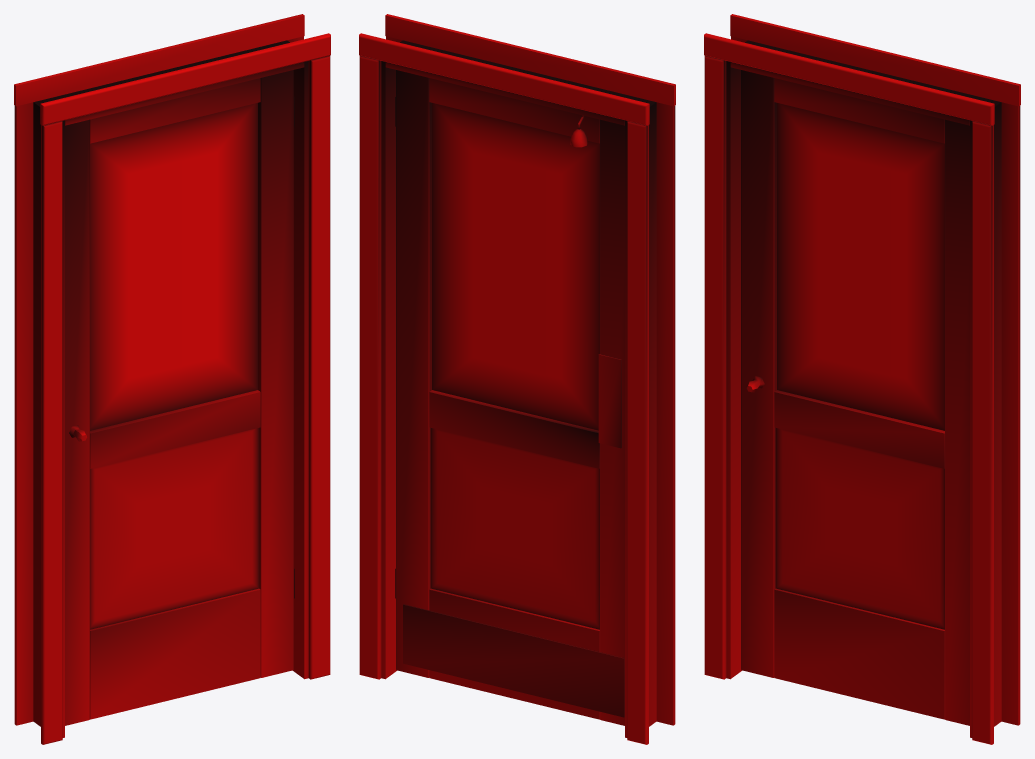
Rendered from CI_Shell_Door_Shop.fbx.
3 renders of one model, left to right at view 1: azimuth 30°, elevation 25°; view 2: azimuth 150°, elevation 25°; view 3: azimuth 330°, elevation 25°, orthographic.
Visible parts, largest first — view 1: CI_Shell_Door_Shop; view 2: CI_Shell_Door_Shop; view 3: CI_Shell_Door_Shop.
Part boxes in pixels (x1,y1,x2,y2): CI_Shell_Door_Shop: (14,14,330,744); CI_Shell_Door_Shop: (359,14,675,744); CI_Shell_Door_Shop: (704,14,1020,744).
Bounding box in the file's own units: 1.02 × 2.17 × 0.186.
